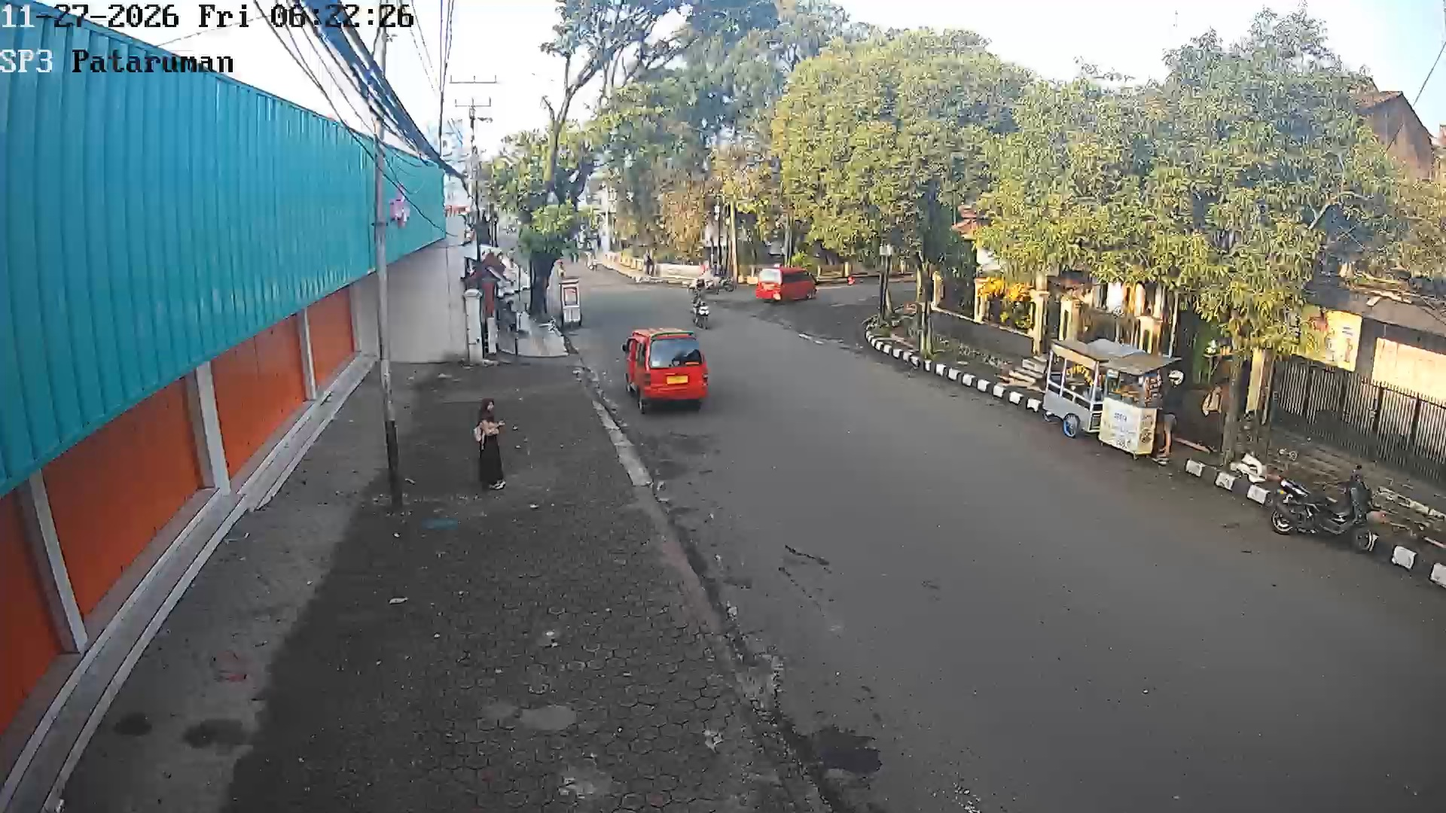Gerobak: (1040, 337, 1178, 459)
